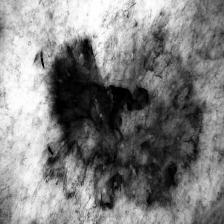Benign Marking or Mole: (45, 38, 211, 192)
